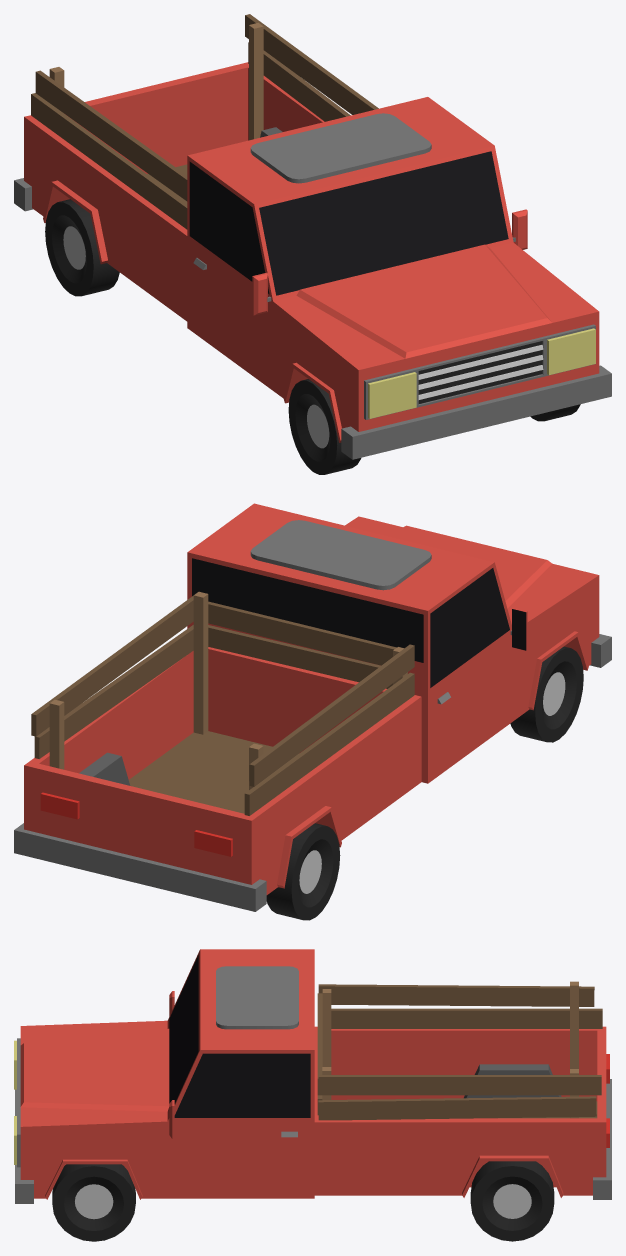
Rendered from Pickup_01.fbx.
The picture shows the model from 3 angles, top to bottom: view 1: azimuth 30°, elevation 25°; view 2: azimuth 150°, elevation 25°; view 3: azimuth 270°, elevation 25°; orthographic projection. The views are drawn at different scales.
Parts seen in each view (by area): view 1: Pickup_01, Pickup_01_Wooden_Bed; view 2: Pickup_01, Pickup_01_Wooden_Bed; view 3: Pickup_01, Pickup_01_Wooden_Bed.
Boxes of the visible parts, box(x1,y1,x2,y2) form: Pickup_01: box(14, 62, 611, 474); Pickup_01_Wooden_Bed: box(31, 14, 378, 229); Pickup_01: box(14, 503, 611, 920); Pickup_01_Wooden_Bed: box(31, 591, 414, 815); Pickup_01: box(14, 949, 611, 1241); Pickup_01_Wooden_Bed: box(317, 981, 602, 1120).
Bounding box in the file's own units: 2.97 × 2.34 × 6.53.
